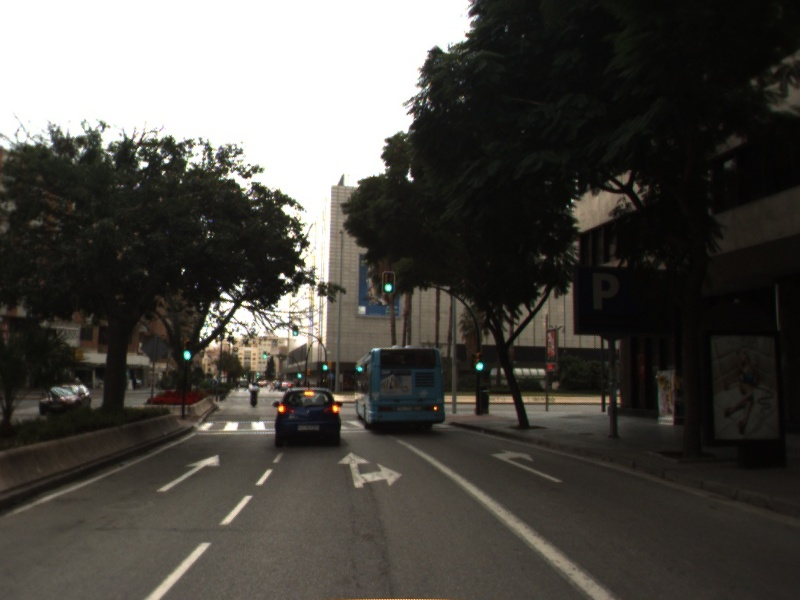RIGHT: (488, 447, 566, 485)
STRAIGHT: (154, 452, 223, 494)
STRAIGHT_RIGHT: (335, 449, 405, 490)
